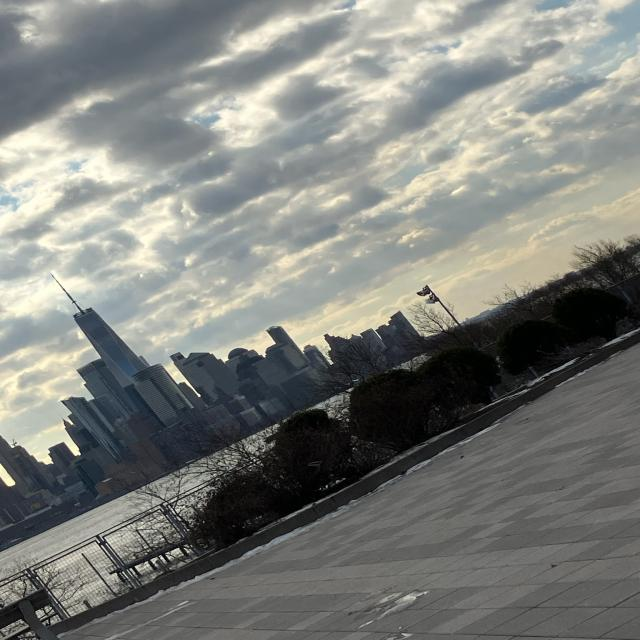WTC: (41, 271, 149, 387)
